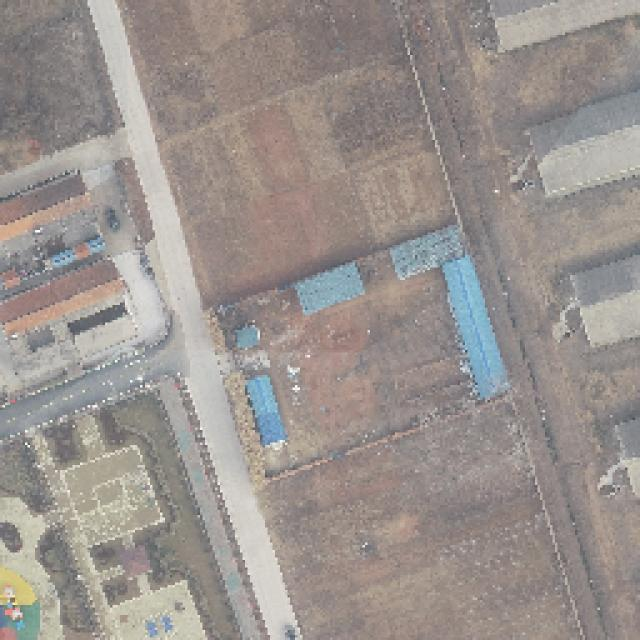Batiment: (530, 90, 640, 196), (442, 255, 509, 398), (1, 263, 122, 336), (491, 0, 640, 52), (1, 177, 89, 241), (391, 227, 462, 279), (295, 262, 365, 314), (245, 375, 288, 446), (76, 318, 133, 358), (235, 325, 259, 348)
